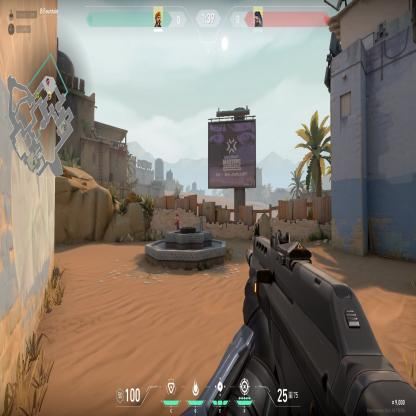enemy: (174, 212, 180, 230)
